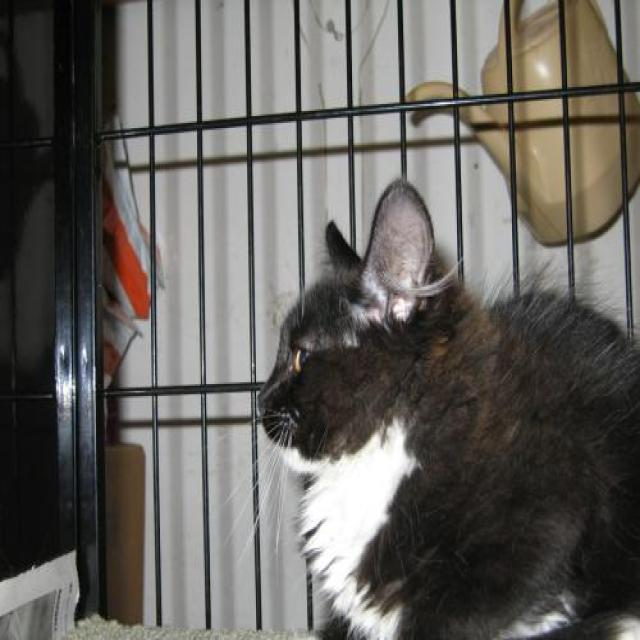Cats: (234, 176, 639, 638)
